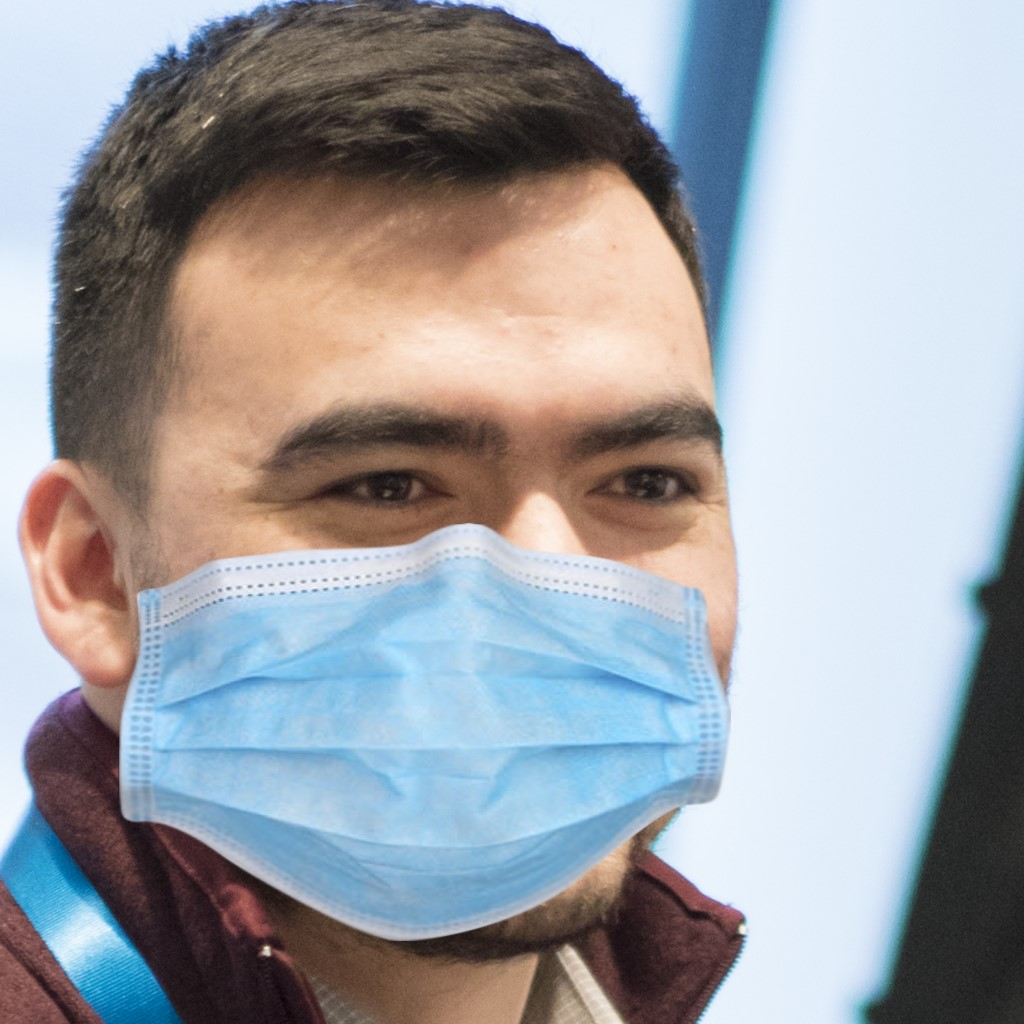con_mascara: (64, 131, 747, 918)
